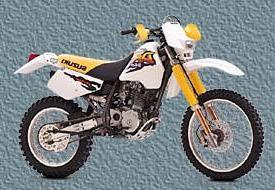motorcycle: (8, 9, 269, 188)
